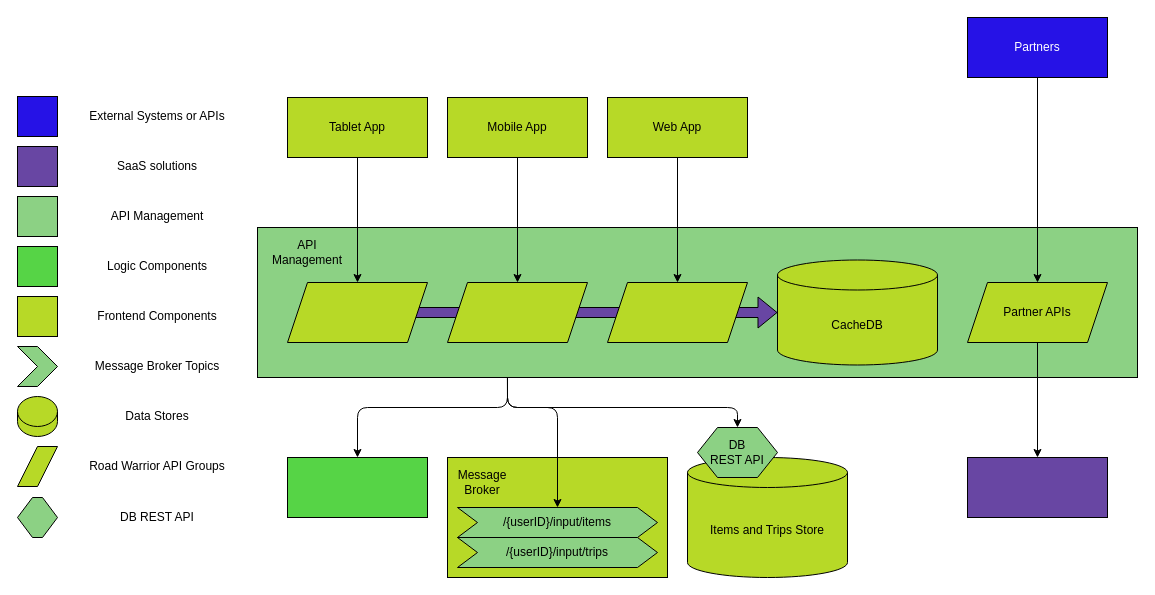
Some shapes in this 1155 by 595 pixel diagram are drawn without their labels. The centre of each missing label's shape, as x and y in pixels:
Mobile APIs: (x=517, y=312)
Reporting and Analytics: (x=1037, y=487)
Tablet APIs: (x=357, y=312)
User Config: (x=357, y=487)
Web APIs: (x=677, y=312)
